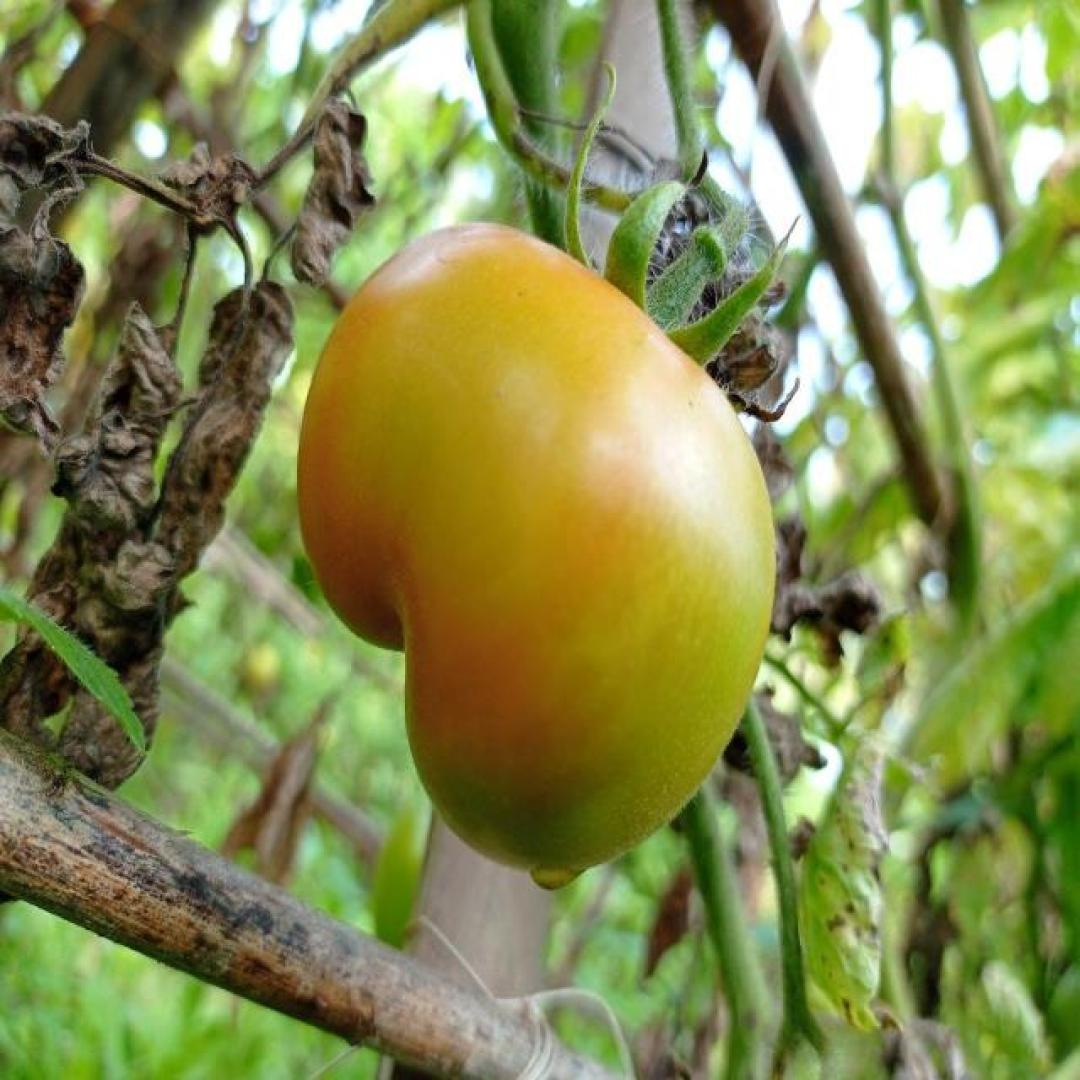setengah_matang: (294, 214, 780, 874)
